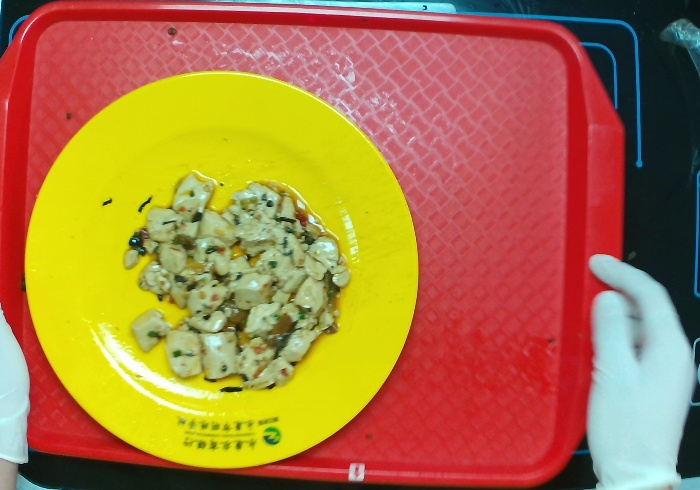YKMZ-Huang_Se_Mian_Pan: (22, 70, 421, 474)
